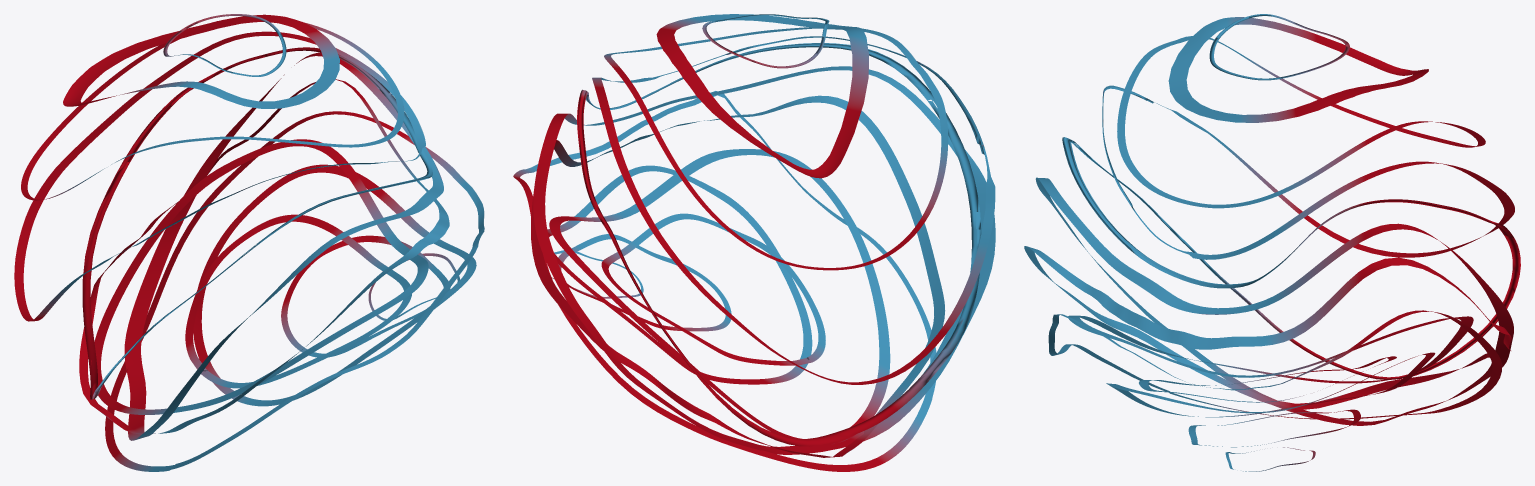
The model's file is TextureFixed - 3.glb.
The picture shows the model from 3 angles, left to right: view 1: azimuth 30°, elevation 25°; view 2: azimuth 150°, elevation 25°; view 3: azimuth 270°, elevation 25°; orthographic projection. The views are drawn at different scales.
Parts seen in each view (by area): view 1: 7.006, 7.1627, 7.1589, Circle, 7.784, 7.005, 7.1818, 7.001, 7.1955, 7.004, 7.2029, 7.002; view 2: 7.006, 7.005, 7.001, 7.1627, Circle, 7.784, 7.1589, 7.004, 7.1818, 7.1955, 7.2029, 7.002; view 3: 7.001, 7.006, Circle, 7.005, 7.784, 7.004, 7.1589, 7.1627, 7.1818, 7.002, 7.1955, 7.2029.
Part boxes in pixels (x1,y1,x2,y2): 7.006: [124, 52, 443, 440]; 7.1627: [90, 139, 428, 414]; 7.1589: [105, 111, 484, 471]; Circle: [63, 14, 339, 108]; 7.784: [14, 31, 425, 321]; 7.005: [82, 47, 432, 399]; 7.1818: [193, 164, 476, 406]; 7.001: [79, 79, 449, 434]; 7.1955: [185, 214, 411, 388]; 7.004: [21, 18, 404, 200]; 7.2029: [281, 235, 450, 357]; 7.002: [163, 14, 286, 76]; 7.006: [533, 66, 995, 454]; 7.005: [577, 43, 981, 446]; 7.001: [531, 95, 945, 457]; 7.1627: [549, 149, 890, 445]; Circle: [656, 14, 868, 178]; 7.784: [592, 36, 995, 384]; 7.1589: [513, 91, 936, 471]; 7.004: [604, 27, 948, 270]; 7.1818: [547, 165, 812, 384]; 7.1955: [601, 213, 825, 365]; 7.2029: [558, 234, 731, 331]; 7.002: [702, 14, 829, 68]; 7.001: [1024, 246, 1511, 409]; 7.006: [1035, 177, 1513, 425]; Circle: [1168, 17, 1428, 122]; 7.005: [1062, 137, 1520, 379]; 7.784: [1102, 85, 1514, 259]; 7.004: [1117, 36, 1485, 208]; 7.1589: [1048, 310, 1502, 419]; 7.1627: [1068, 315, 1473, 383]; 7.1818: [1106, 352, 1435, 417]; 7.002: [1209, 14, 1349, 80]; 7.1955: [1139, 356, 1396, 402]; 7.2029: [1188, 409, 1360, 447].
Bounding box in the file's own units: 1.9 × 1.69 × 1.73.
2 materials, 2 textured.
